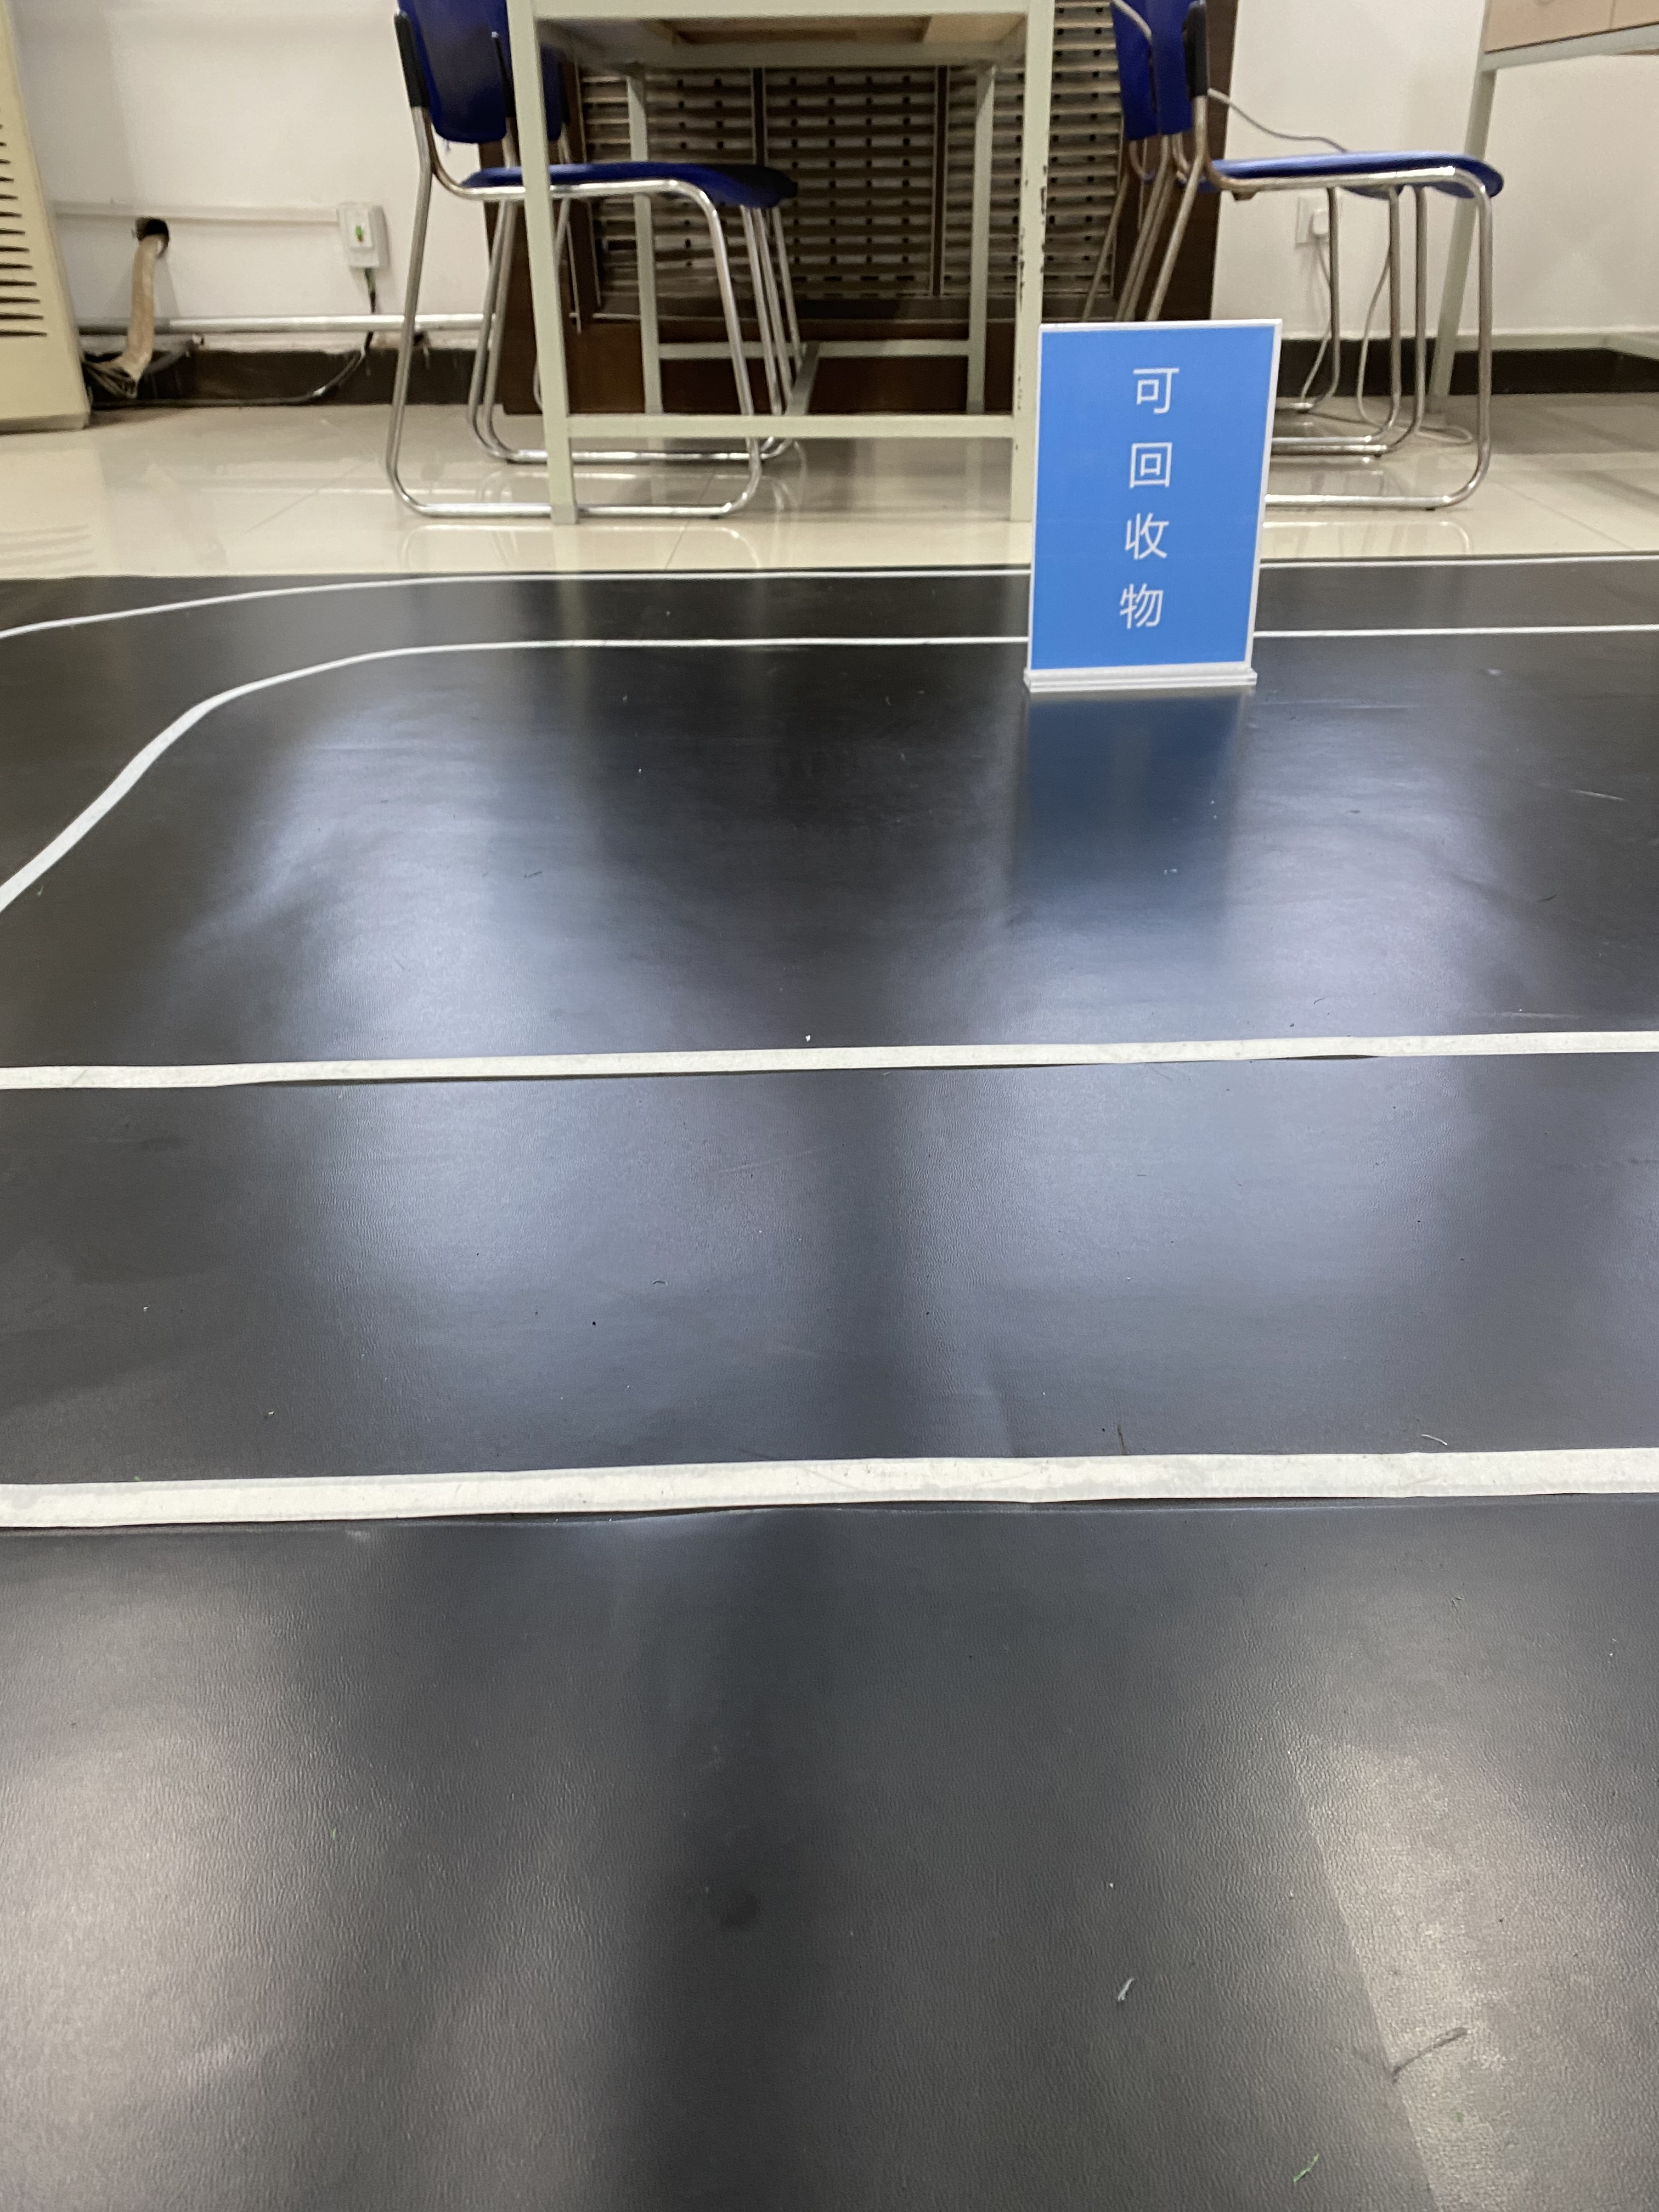blue: (1049, 327, 1248, 657)
